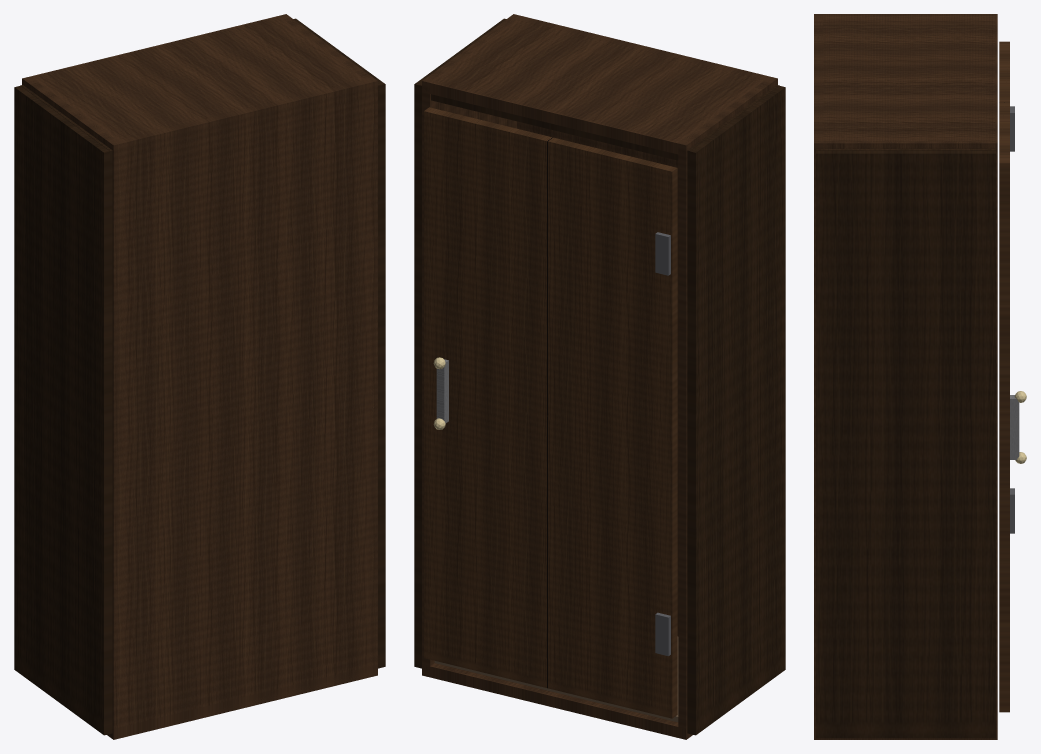
Rendered from closet.glb.
3 renders of one model, left to right at view 1: azimuth 30°, elevation 25°; view 2: azimuth 150°, elevation 25°; view 3: azimuth 270°, elevation 25°, orthographic.
Visible parts, largest first — view 1: back, trim_-1, top, trim_1, side_r, side_l, base; view 2: door, trim_-1, top, side_l, trim_1, base, back, side_r, trim_top, plinth, handle_bar, hinge_38 (+1 smaller); view 3: trim_1, top, door, side_r, back, handle_bar, base.
Part boxes in pixels (<box>): back: <box>109,78,377,739</box>; trim_-1: <box>14,85,112,735</box>; top: <box>22,15,376,153</box>; trim_1: <box>293,18,385,668</box>; side_r: <box>279,14,377,677</box>; side_l: <box>22,76,121,735</box>; base: <box>107,664,377,739</box>; door: <box>424,107,677,718</box>; trim_-1: <box>687,85,785,735</box>; top: <box>422,16,777,155</box>; side_l: <box>678,76,777,739</box>; trim_1: <box>414,18,506,668</box>; base: <box>422,663,691,739</box>; back: <box>509,14,777,636</box>; side_r: <box>422,15,520,677</box>; trim_top: <box>420,84,779,163</box>; plinth: <box>434,636,678,722</box>; handle_bar: <box>436,359,448,423</box>; hinge_38: <box>655,612,670,656</box>; trim_1: <box>816,150,995,738</box>; top: <box>814,14,997,149</box>; door: <box>999,41,1009,712</box>; side_r: <box>814,140,997,739</box>; back: <box>814,14,823,739</box>; handle_bar: <box>1010,395,1019,459</box>; base: <box>814,729,997,739</box>.
Bounding box in the file's own units: 1.07 × 2.15 × 0.695.
4 materials, 4 textured.
